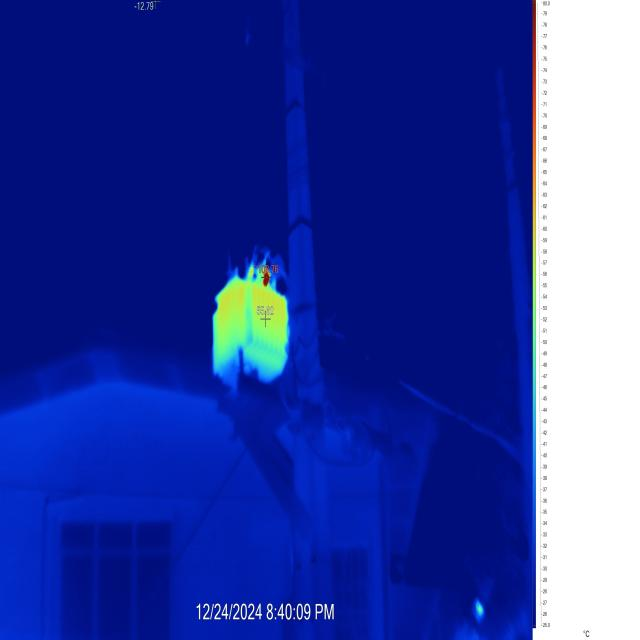Transformer: (196, 10, 448, 500)
